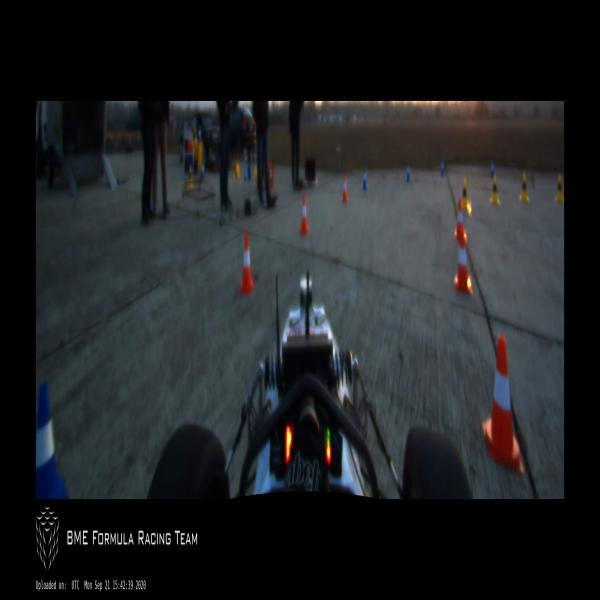blue_cone: (36, 380, 70, 498), (362, 166, 368, 189), (243, 164, 251, 181), (490, 159, 495, 179), (440, 159, 445, 178), (406, 162, 410, 182), (200, 164, 205, 180), (198, 128, 201, 141)
orange_cone: (482, 334, 525, 477), (455, 234, 473, 294), (238, 230, 254, 294), (455, 199, 468, 239), (300, 193, 308, 234), (341, 174, 348, 202), (268, 162, 274, 186)
yellow_cone: (519, 172, 529, 203), (490, 174, 499, 205), (555, 173, 564, 203), (461, 179, 468, 210), (188, 167, 194, 190), (233, 162, 240, 179), (253, 164, 257, 180), (193, 126, 197, 142)
